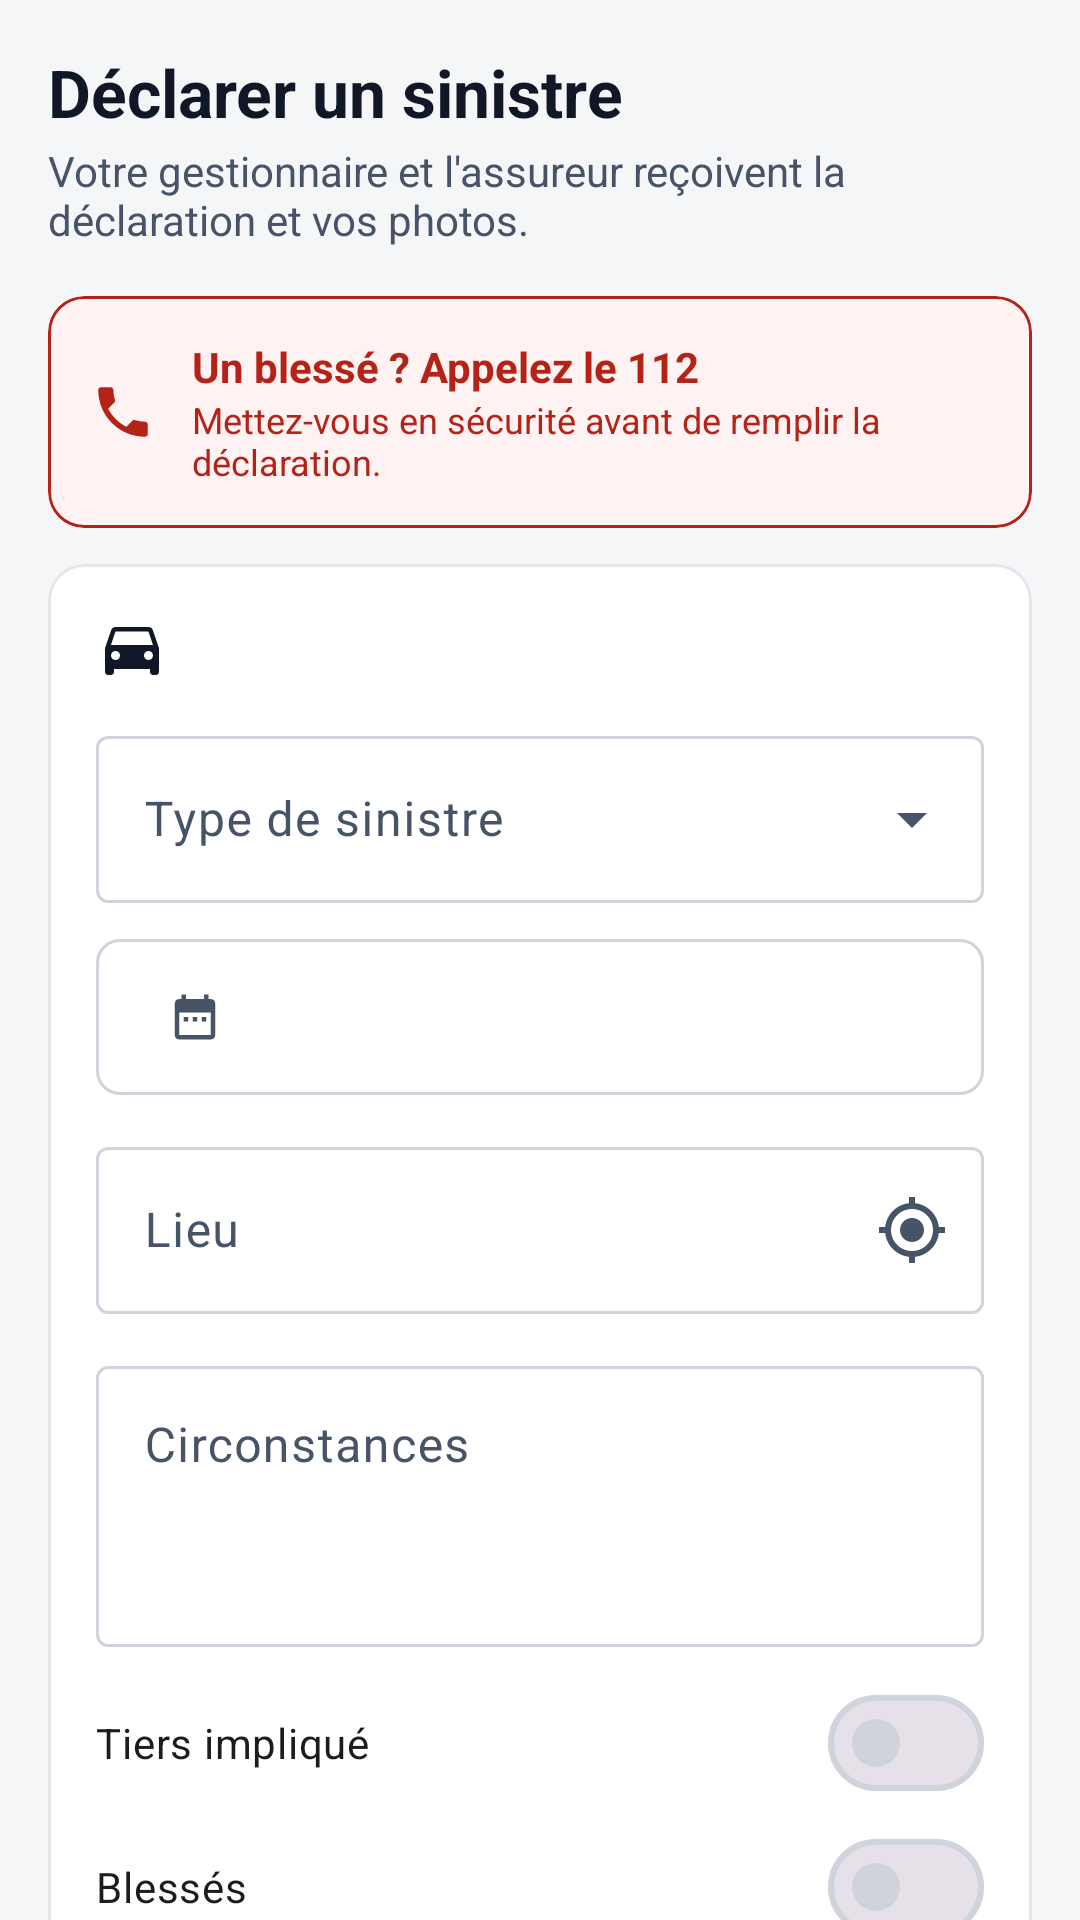

Icon click points for this 1080 x 1920 phone screenshot, format point (x, y):
phone: point (123, 412)
